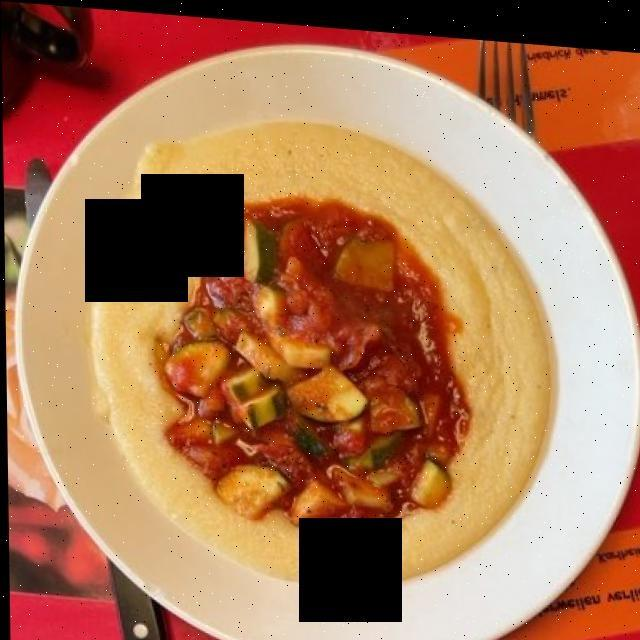polenta: (78, 114, 564, 578)
ratatouille: (165, 201, 469, 542)
